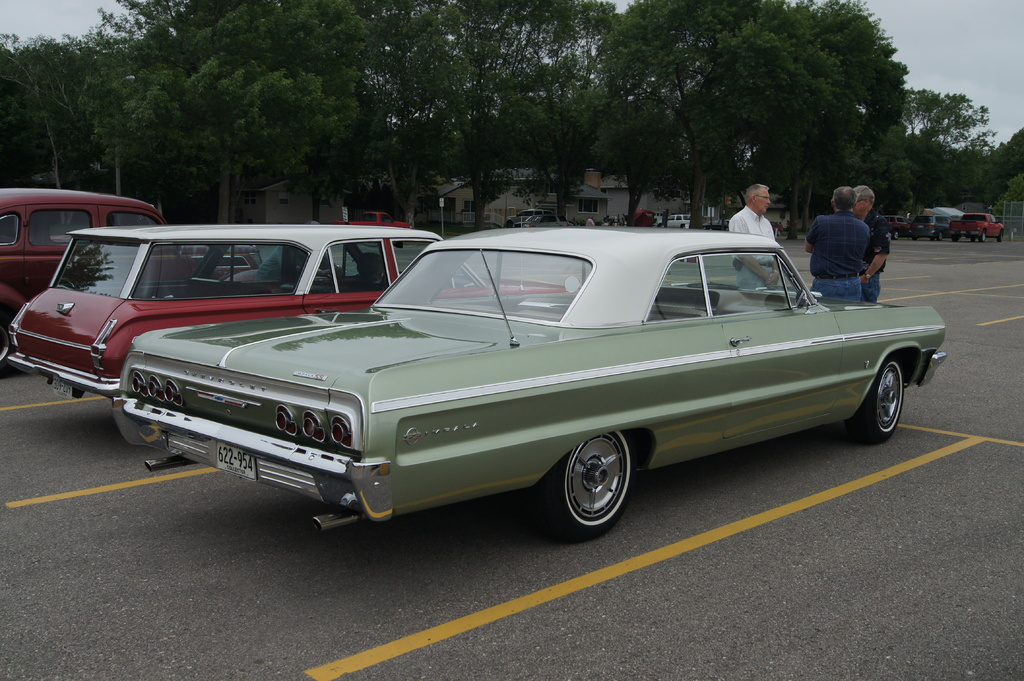Car: (0, 172, 1023, 538)
